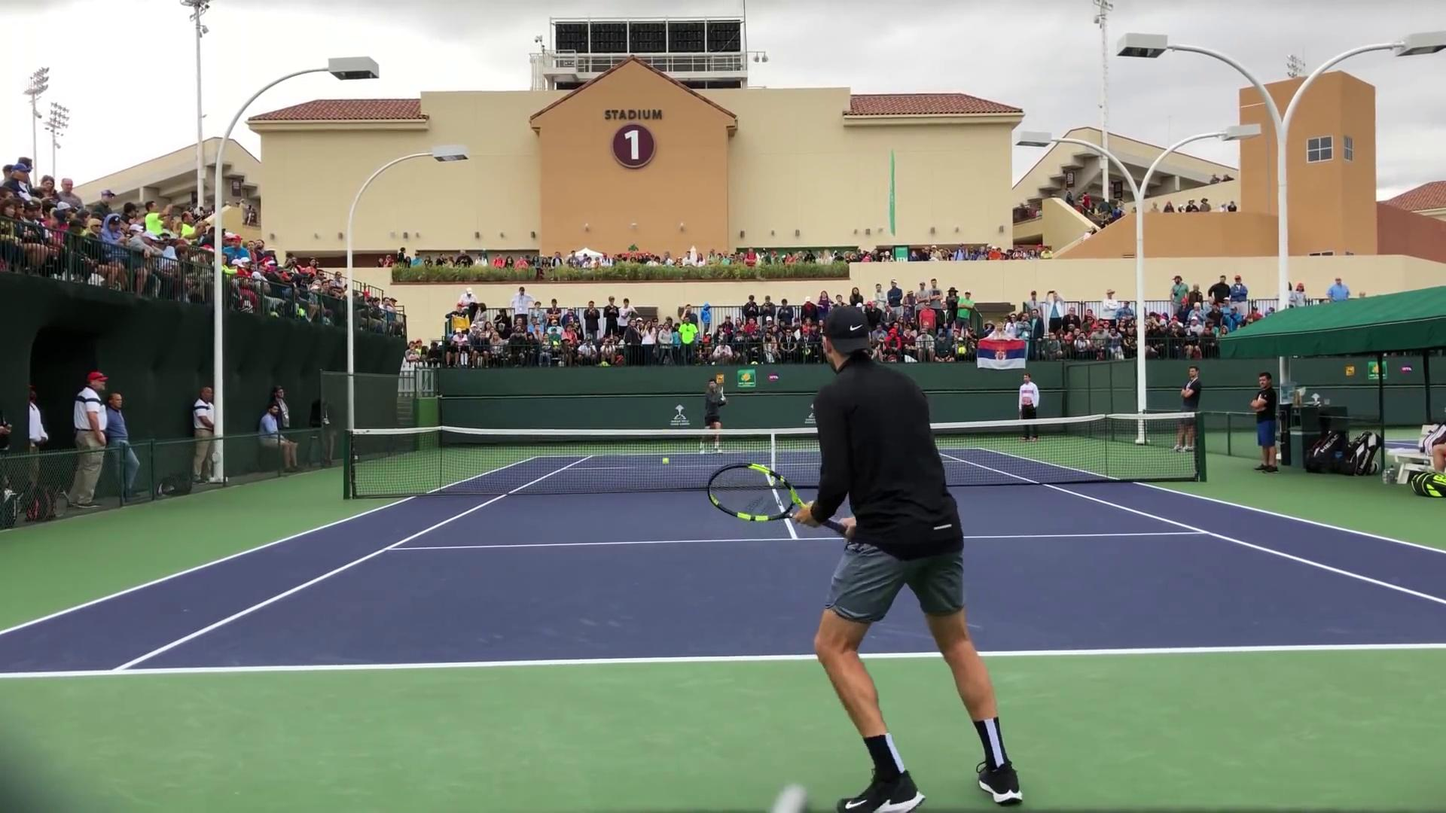ball: (658, 454, 672, 468)
